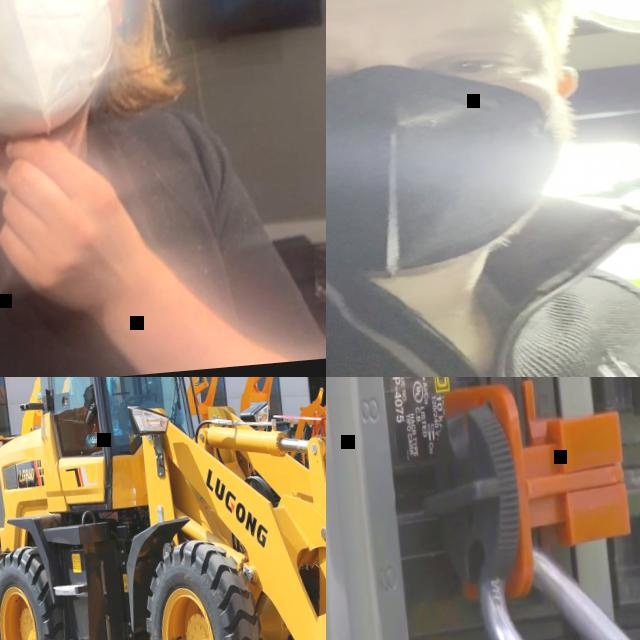Mask: (326, 67, 578, 293), (0, 0, 122, 137)
NO-Safety Vest: (0, 105, 236, 377), (326, 205, 640, 377)
Person: (0, 0, 326, 377), (326, 0, 640, 377)
machinery: (0, 377, 326, 640), (287, 383, 326, 528), (278, 385, 326, 467)
